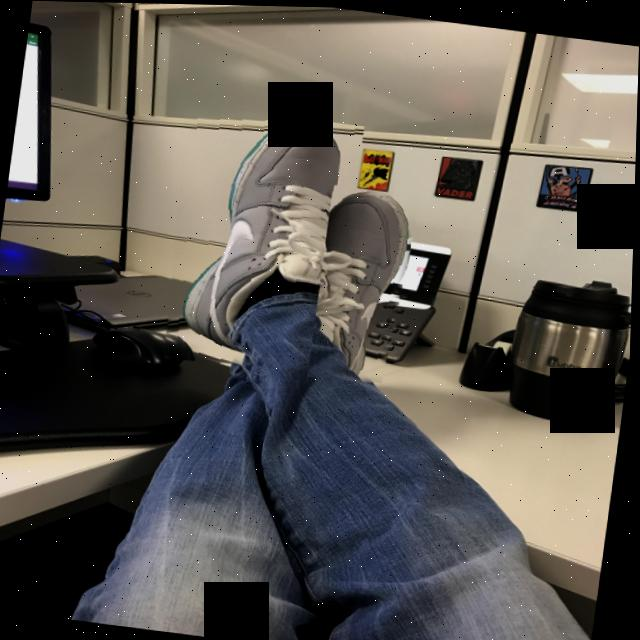shoe: (154, 102, 365, 378), (309, 183, 422, 386)
